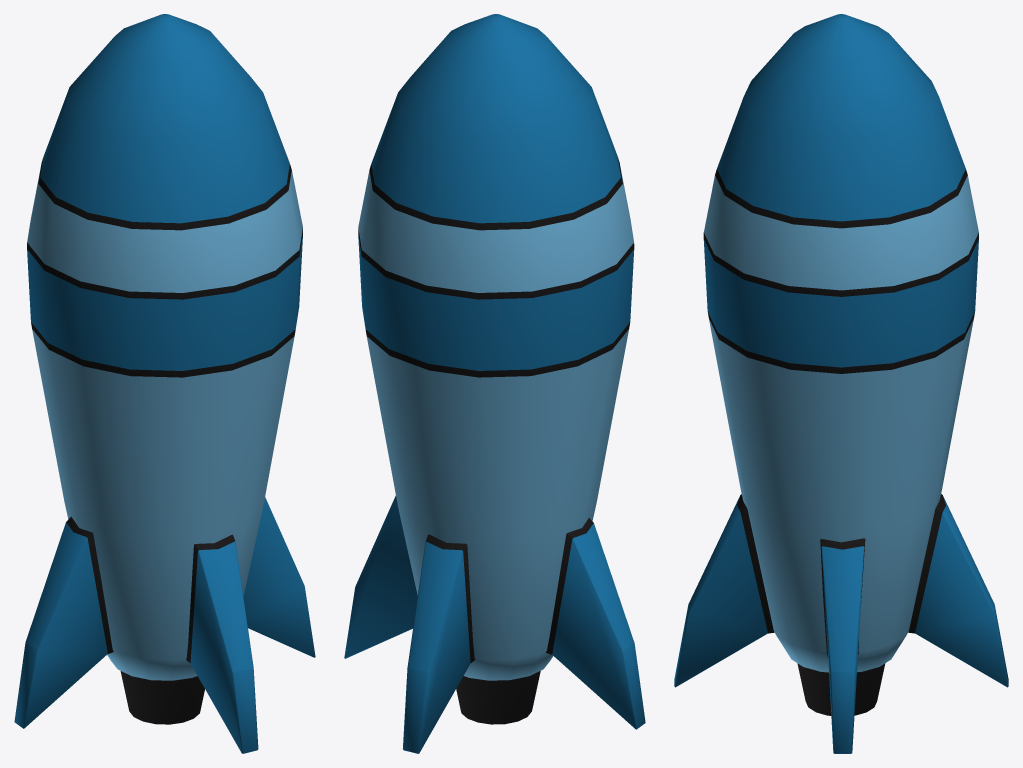
File: RMB_34.fbx
3 views of the same model, side by side, from view 1: azimuth 30°, elevation 25°; view 2: azimuth 150°, elevation 25°; view 3: azimuth 270°, elevation 25° (orthographic).
Parts seen in each view (by area): view 1: RMB_34; view 2: RMB_34; view 3: RMB_34.
Boxes of the visible parts, box(x1,y1,x2,y2) form: RMB_34: box(14, 14, 315, 753); RMB_34: box(344, 14, 645, 753); RMB_34: box(674, 14, 1008, 753).
Bounding box in the file's own units: 670 × 1515 × 670.
1 material, 1 textured.
